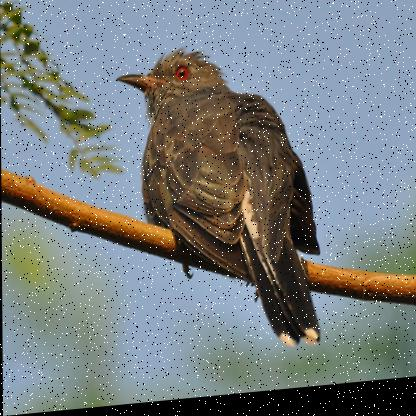Burung: (116, 38, 321, 367)
